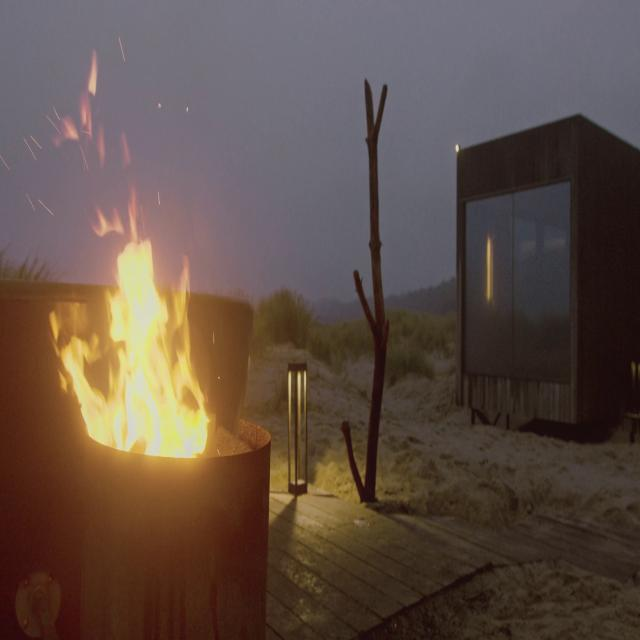Fire: (58, 180, 214, 464)
